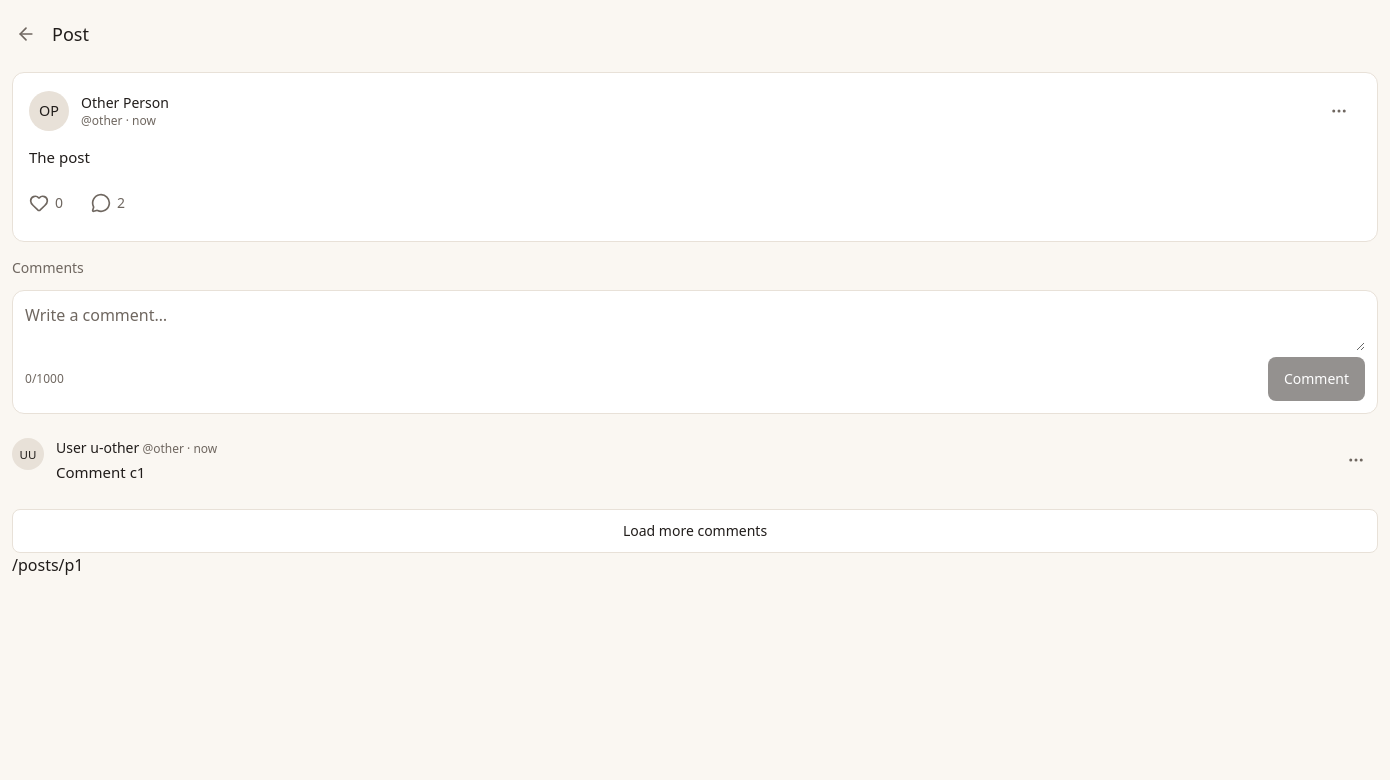
PostDetailPage › loads more comments using the cursor
Expected: the text "Comment c1" is shown, [56,462,145,482]
Step 1. Click the button "Load more comments" → (695, 531), box [12,509,1378,553]
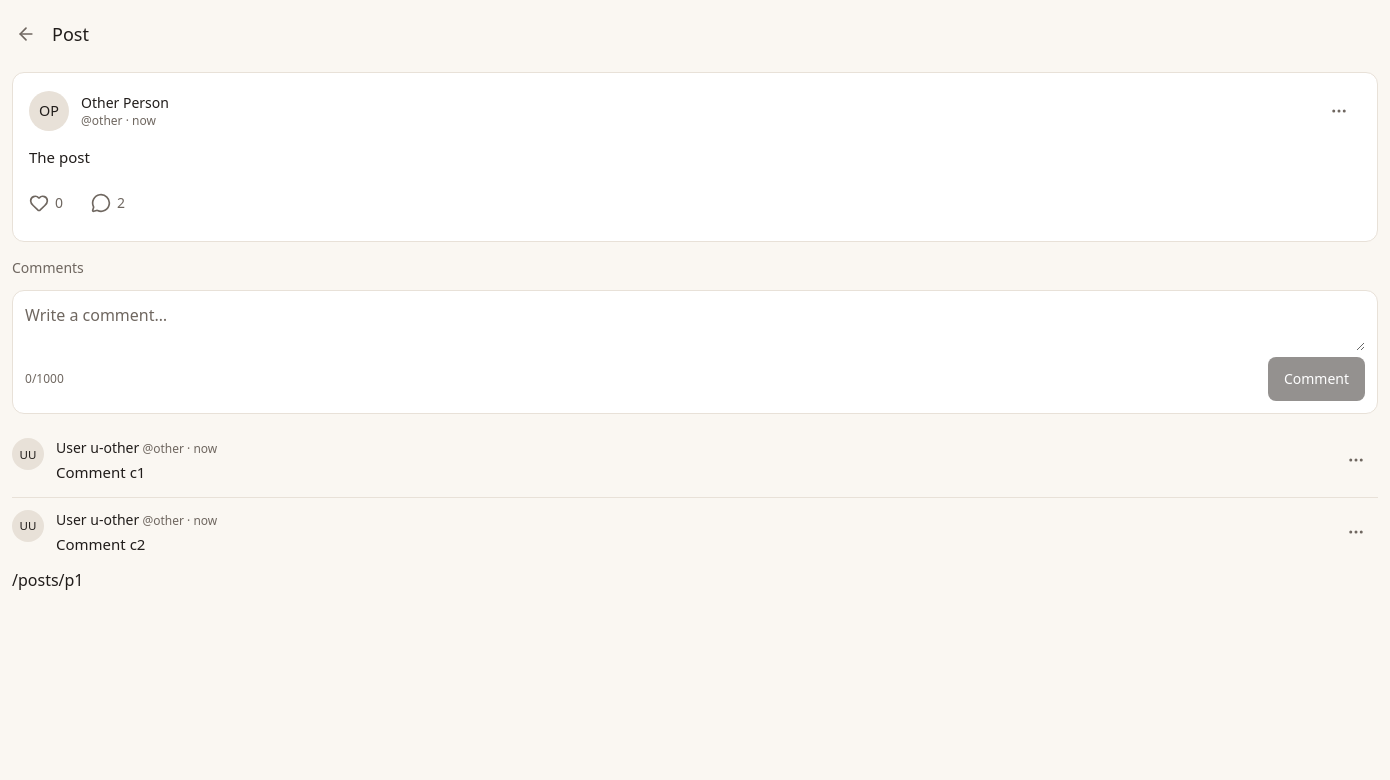
Result: the text "Comment c2" is shown at [56,534,145,554]
